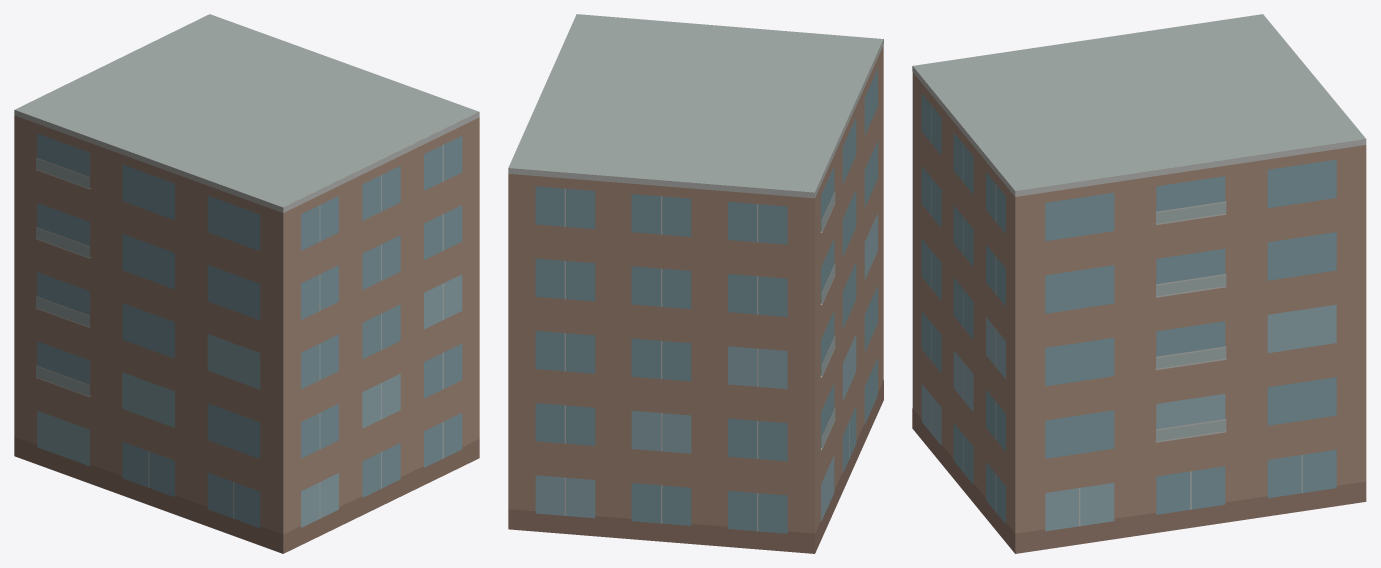
File: survey-upis-32699250.glb
3 views of the same model, side by side, from view 1: azimuth 30°, elevation 25°; view 2: azimuth 150°, elevation 25°; view 3: azimuth 270°, elevation 25° (orthographic). The views are drawn at different scales.
Visible parts, largest first — view 1: survey-upis-32699250.tmp; view 2: survey-upis-32699250.tmp; view 3: survey-upis-32699250.tmp.
Part boxes in pixels (x1,y1,x2,y2): survey-upis-32699250.tmp: (14, 14, 479, 553); survey-upis-32699250.tmp: (508, 14, 883, 553); survey-upis-32699250.tmp: (912, 14, 1366, 553).
Bounding box in the file's own units: 15.99 × 15.25 × 17.3.
